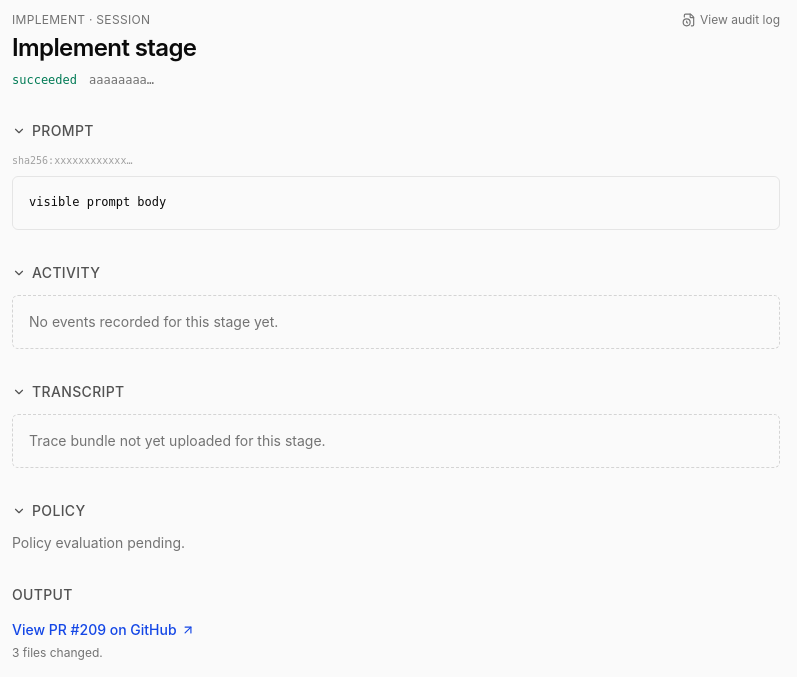
Test: <ImplementSessionDocument> › hides the prompt when the user collapses the section
The width and height of the screenshot is (797, 677).
Expected: the text "visible prompt body" is shown, [12,176,780,230]
Step 1. Click the button "Prompt" → (53, 131), box [12,121,94,141]
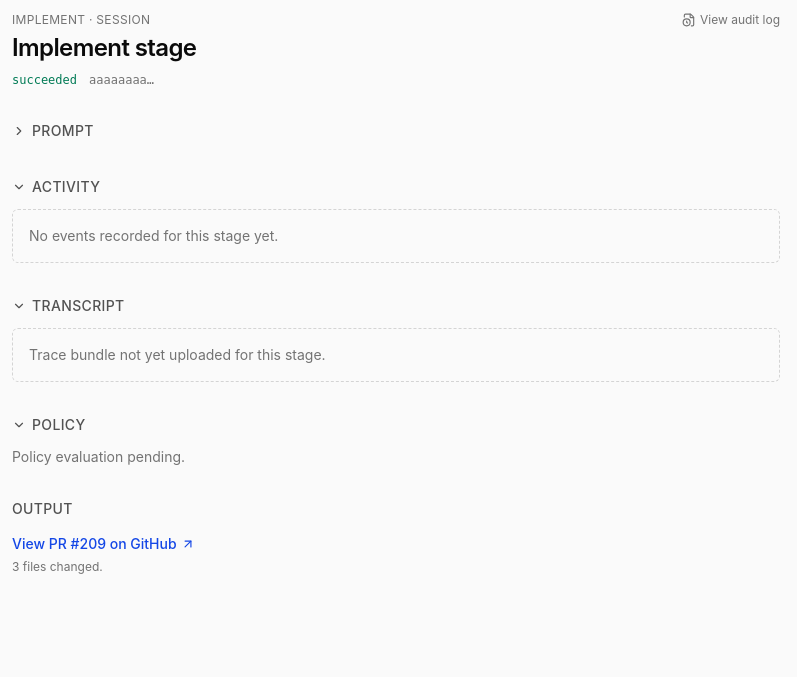
Expected: the button "Prompt" is collapsed, [12,121,94,141]
Expected: the text "visible prompt body" is gone
